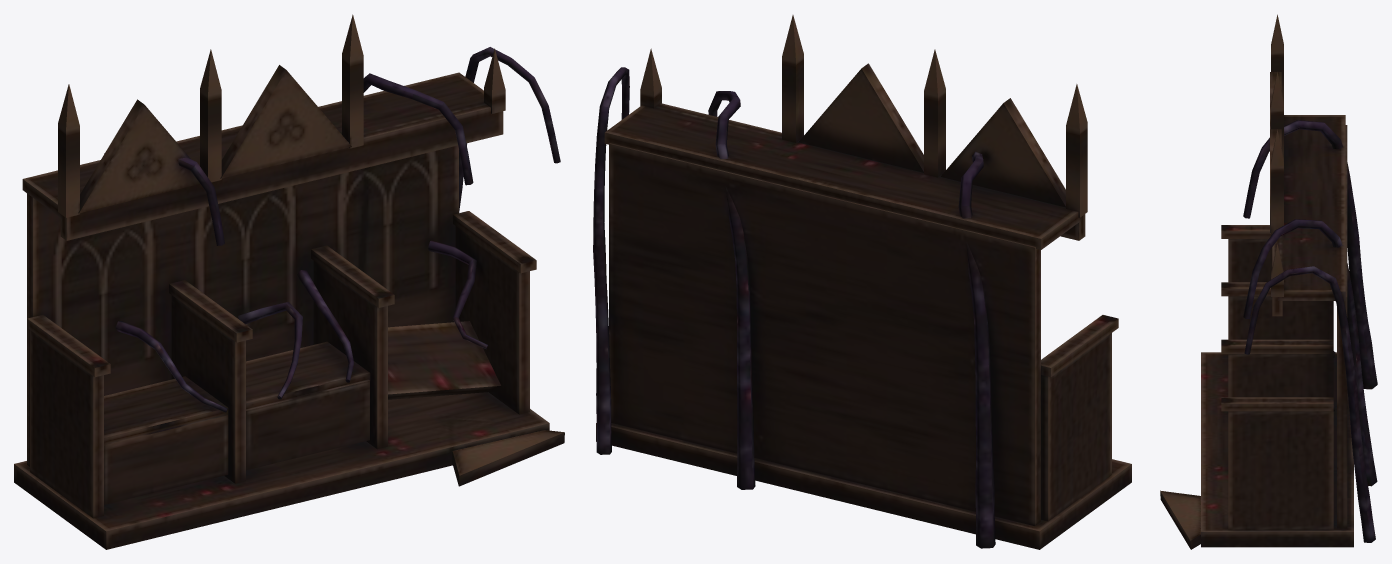
File: thorn_choir.glb
3 views of the same model, side by side, from view 1: azimuth 30°, elevation 25°; view 2: azimuth 150°, elevation 25°; view 3: azimuth 270°, elevation 25° (orthographic). The views are drawn at different scales.
Parts seen in each view (by area): view 1: thorn_choir; view 2: thorn_choir; view 3: thorn_choir.
Part boxes in pixels (x1,y1,x2,y2): thorn_choir: [14, 14, 564, 549]; thorn_choir: [593, 15, 1131, 549]; thorn_choir: [1160, 14, 1377, 549].
Bounding box in the file's own units: 2.72 × 2.33 × 1.28.
Materials: 1 (1 with a texture image).
